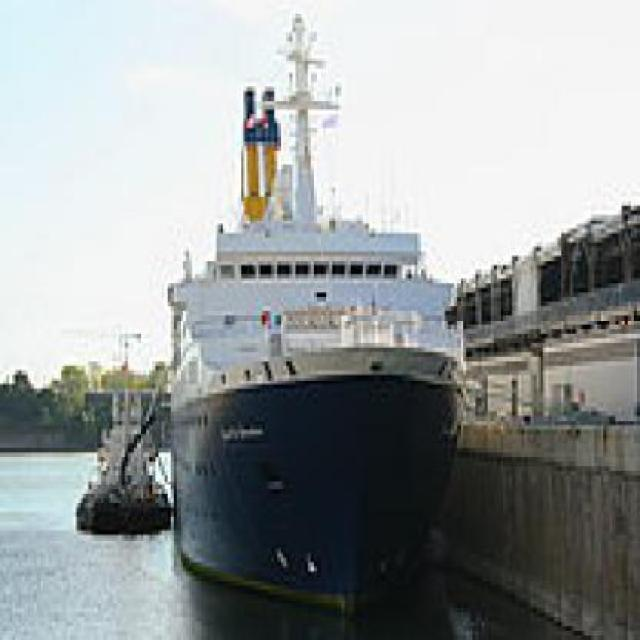cruise: (150, 1, 483, 623)
